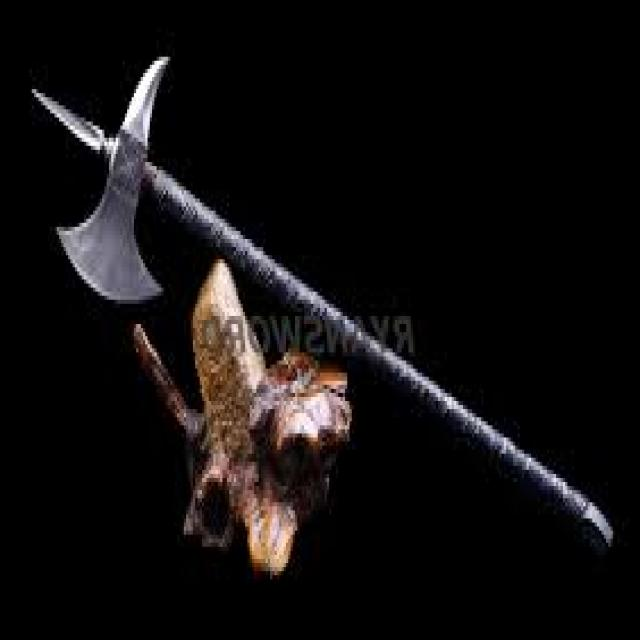Gun: (13, 28, 639, 586)
